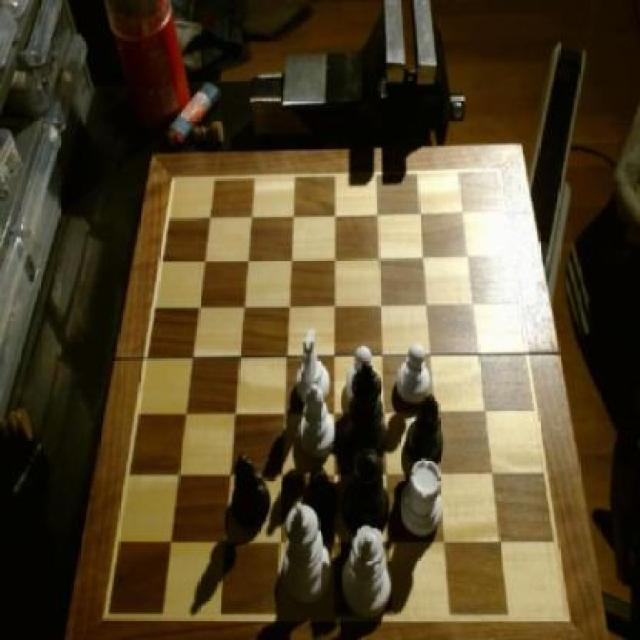bishop: (403, 392, 445, 471), (229, 452, 270, 530)
black-bishop: (345, 365, 389, 459)
black-knight: (302, 464, 339, 524)
black-pawn: (345, 448, 393, 532)
black-rook: (297, 386, 338, 457)
white-bishop: (280, 501, 335, 607)
white-king: (297, 330, 331, 404)
white-knight: (397, 342, 434, 412), (344, 344, 378, 404)
white-pawn: (344, 528, 396, 617)
white-queen: (398, 458, 444, 538)
